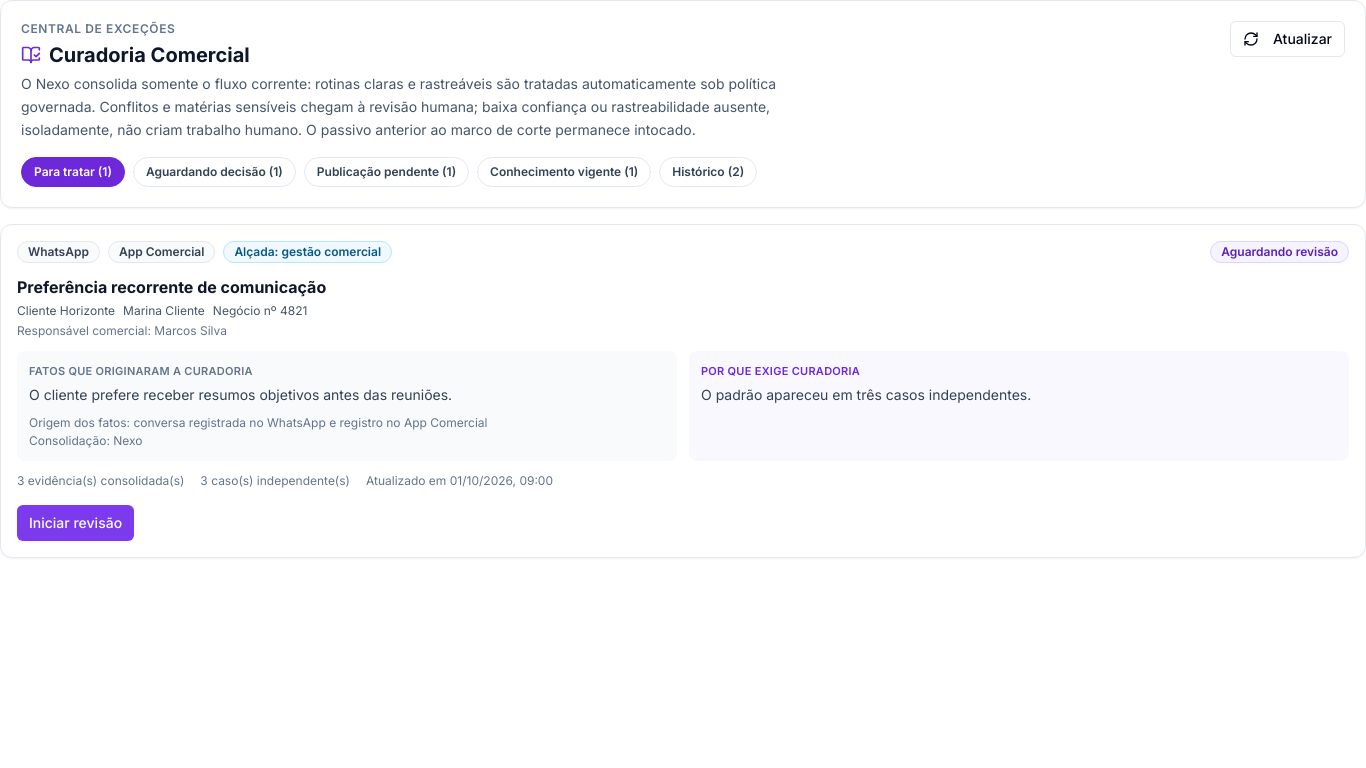
Test: Curadoria Comercial Unificada › mostra as cinco visões, alçadas e referências humanas sem expor identificadores técnicos
The image size is (1366, 768).
Expected: the text "baixa confiança ou rastreabilidade ausente, isoladamente, não criam trabalho humano" is shown, [21,75,776,138]
Expected: the heading "Preferência recorrente de comunicação" is shown, [17,277,326,297]
Click the tab "Aguardando decisão (1)": [214, 172] box [133,157,296,187]
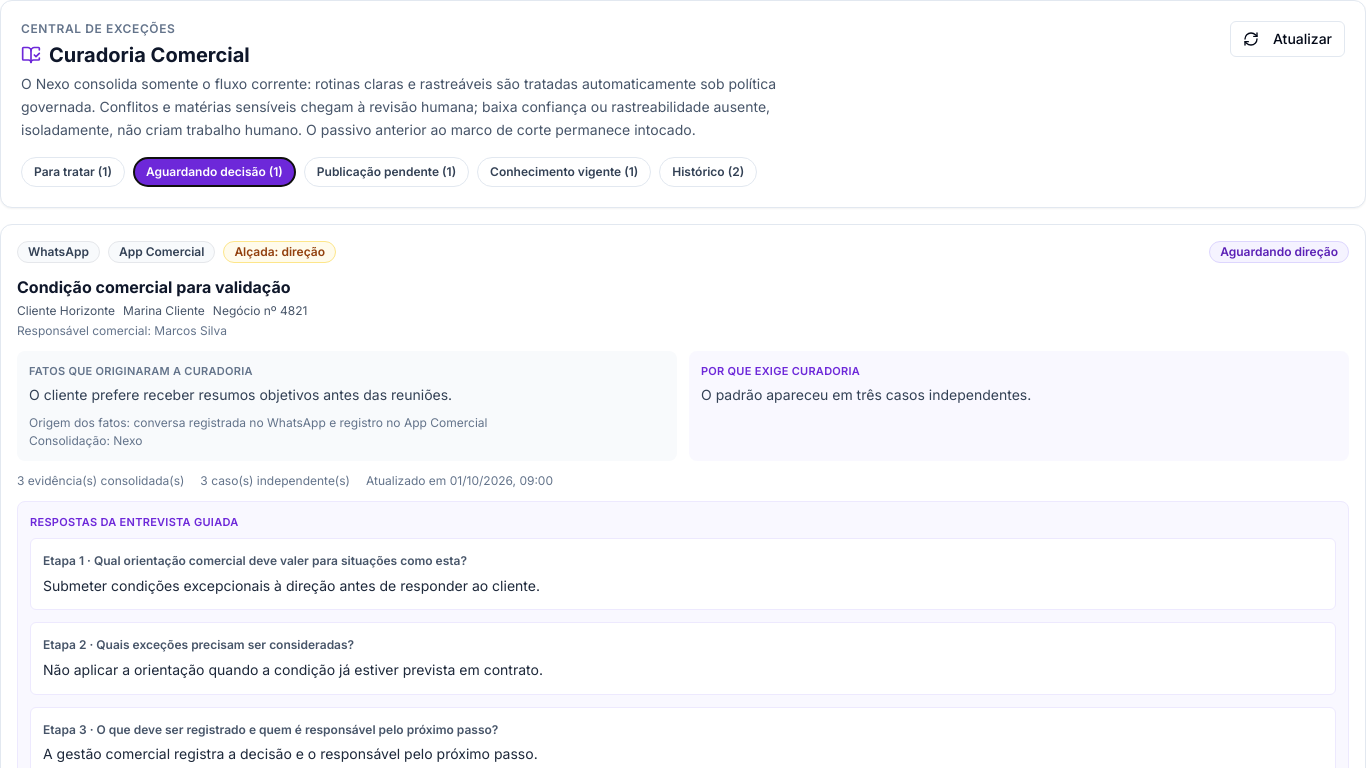
Result: the heading "Condição comercial para validação" is shown at [17,277,290,297]
Result: the text "Alçada: direção" is shown at [223,241,336,263]
Result: the text "Respostas da entrevista guiada" is shown at [30,514,238,528]
Click the tab "Publicação pendente (1)": [386, 172] box [304,157,469,187]
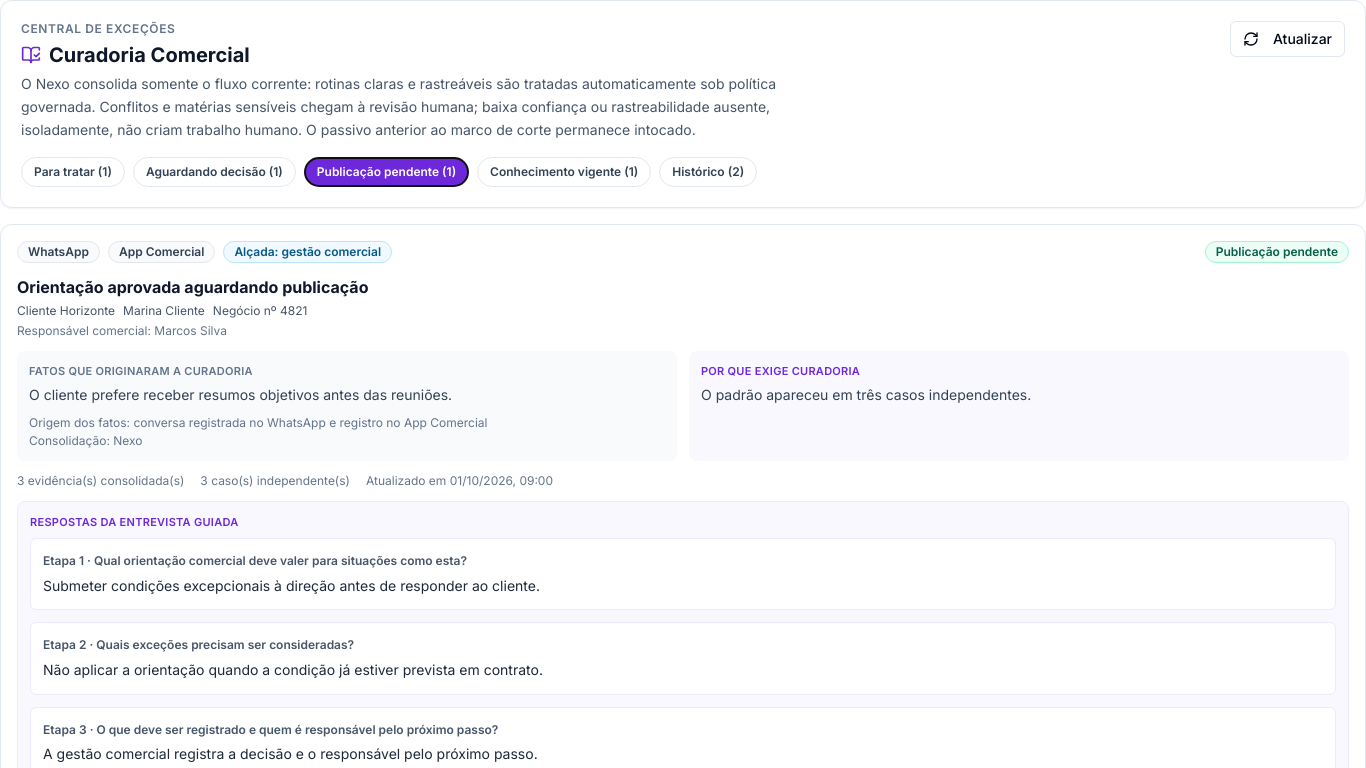
Result: the text "Respostas da entrevista guiada" is shown at [30,514,238,528]
Result: the text "Submeter condições excepcionais à direção antes de responder ao cliente." is shown at [43,576,540,594]
Result: the heading "Orientação aprovada aguardando publicação" is shown at [17,277,368,297]
Click the tab "Conhecimento vigente (1)": [564, 172] box [477,157,651,187]
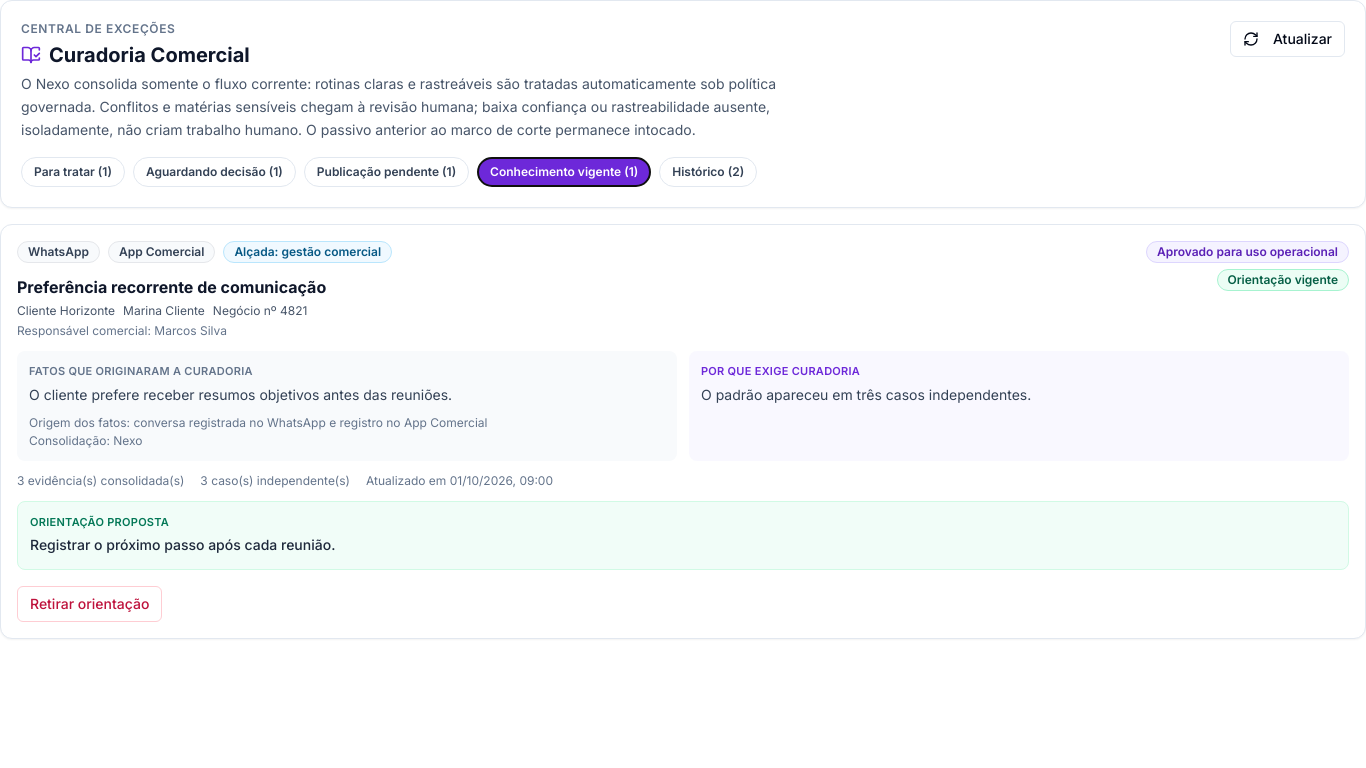
Result: the text "Registrar o próximo passo após cada reunião." is shown at [30,536,335,553]
Result: the text "Orientação vigente" is shown at [1216,269,1349,291]
Click the tab "Histórico (2)": [708, 172] box [659,157,757,187]
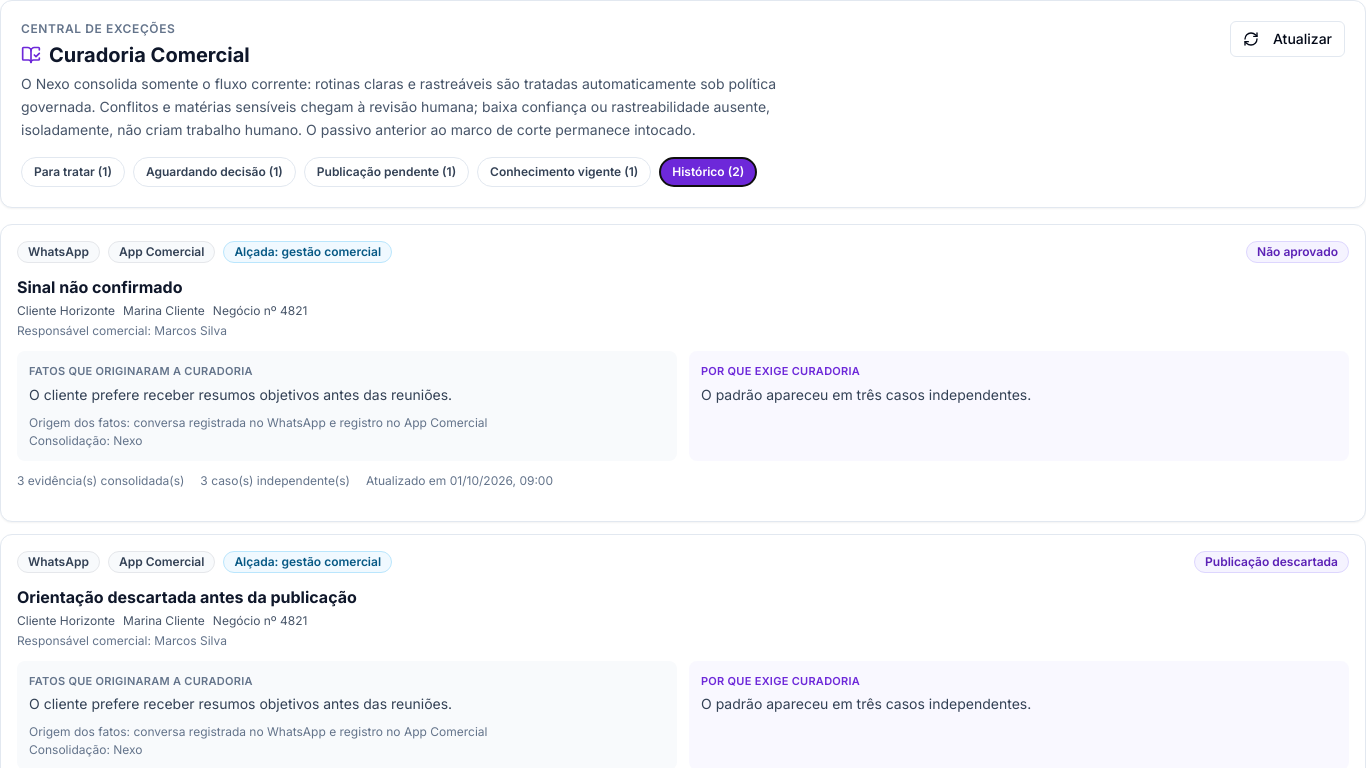
Result: the heading "Sinal não confirmado" is shown at [17,277,182,297]
Result: the text "Publicação descartada" is shown at [1194,550,1349,572]
